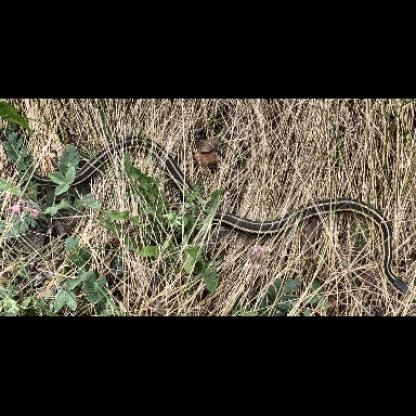Snake: (214, 199, 410, 299), (25, 138, 184, 200)
